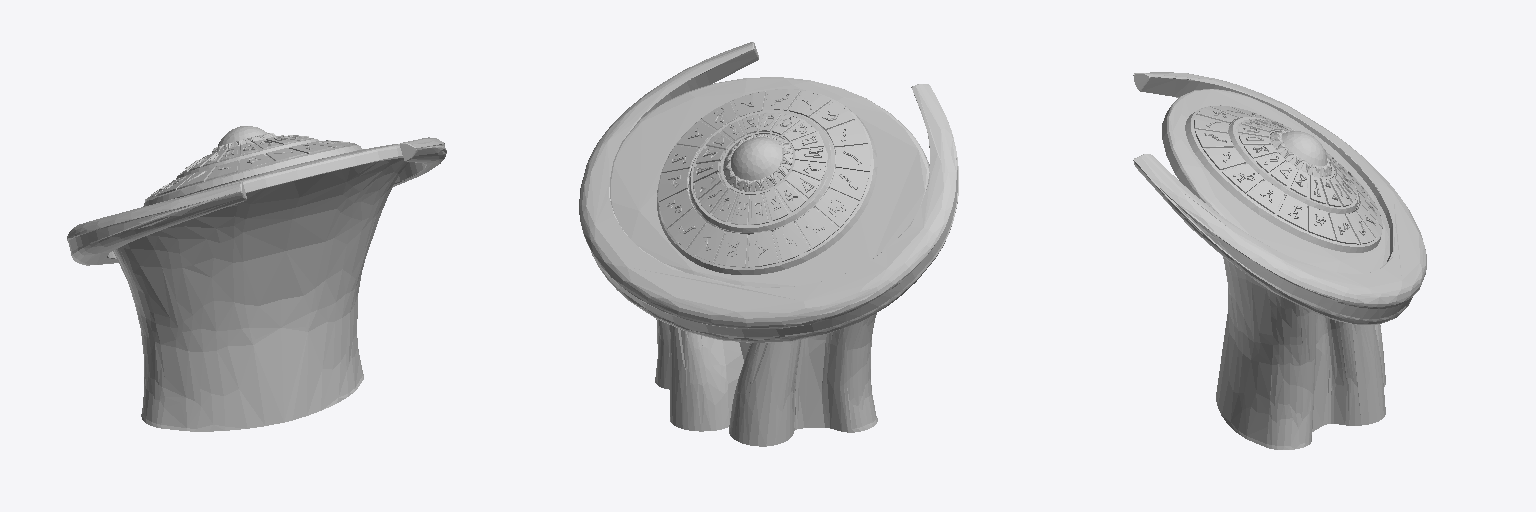
File: dhd_handheld.obj
The picture shows the model from 3 angles: view 1: azimuth 30°, elevation 25°; view 2: azimuth 150°, elevation 25°; view 3: azimuth 270°, elevation 25°; orthographic projection.
Parts seen in each view (by area): view 1: DHD_DHD_symbols_outer_Cylinder.001; view 2: DHD_DHD_symbols_outer_Cylinder.001; view 3: DHD_DHD_symbols_outer_Cylinder.001.
Boxes of the visible parts, x1,y1,x2,y2 form: DHD_DHD_symbols_outer_Cylinder.001: [67, 126, 446, 431]; DHD_DHD_symbols_outer_Cylinder.001: [579, 42, 958, 446]; DHD_DHD_symbols_outer_Cylinder.001: [1133, 72, 1426, 449].
Bounding box in the file's own units: 2.02 × 1.58 × 1.47.